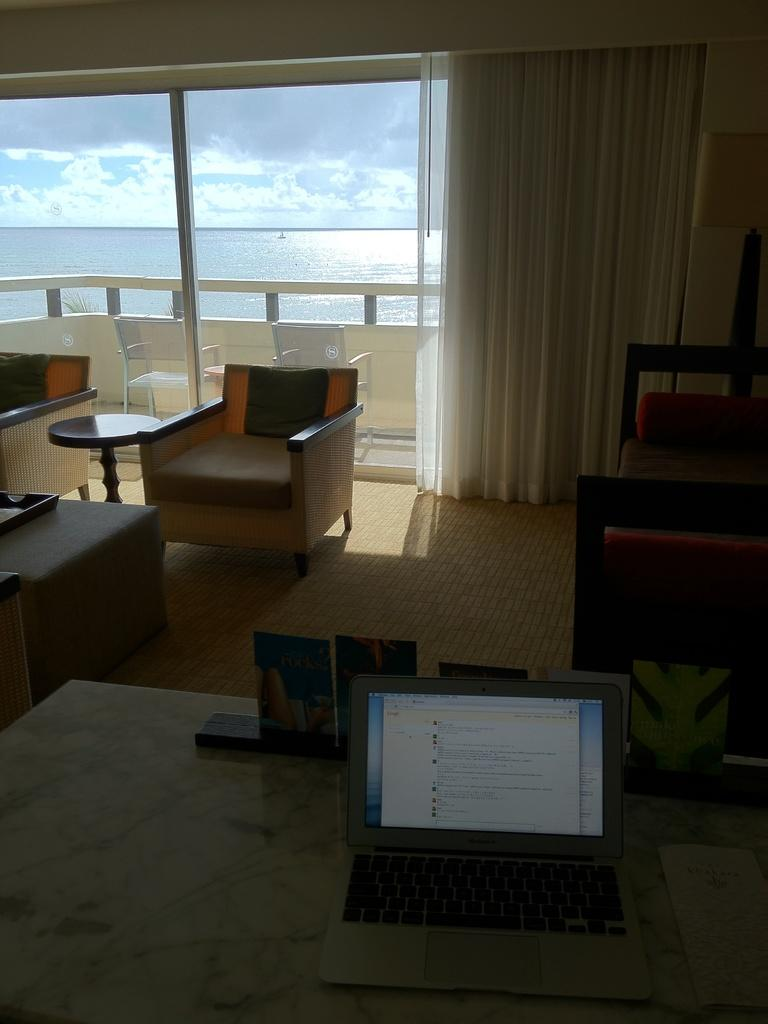Computer-keyboard: (343, 854, 634, 940)
